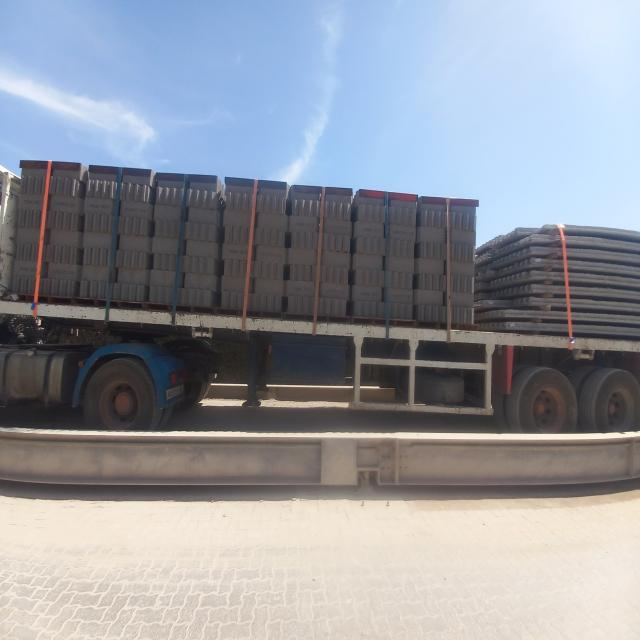bricks: (38, 162, 448, 323), (4, 161, 48, 295), (449, 199, 477, 323)
